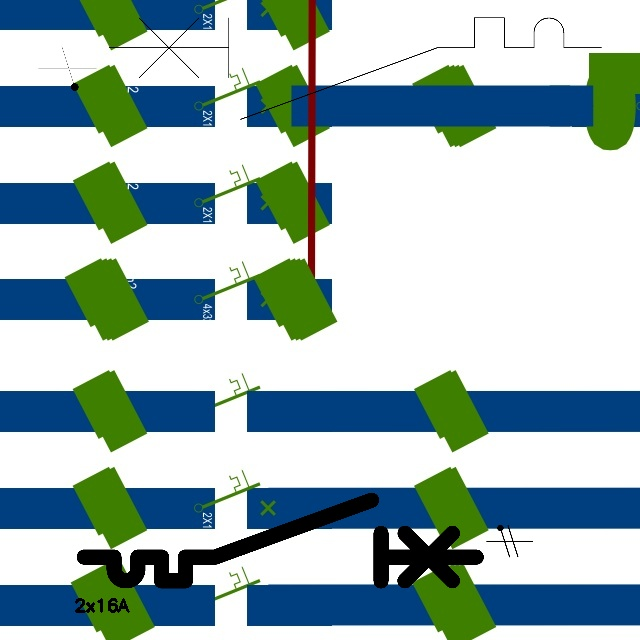interruptor_termomagnetico: (96, 5, 614, 132), (74, 490, 487, 591)
